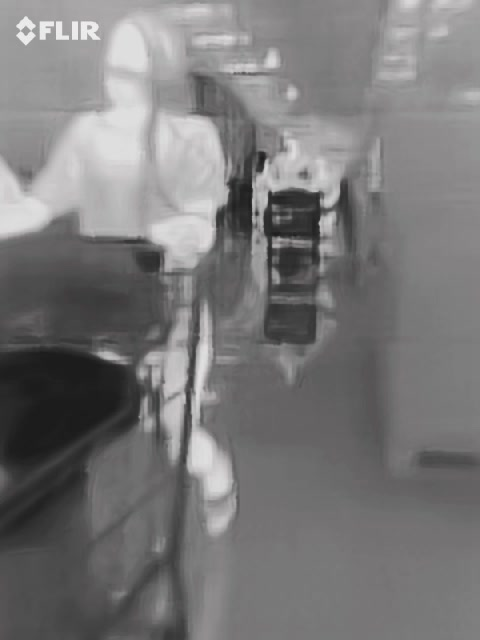head: (101, 10, 182, 107)
